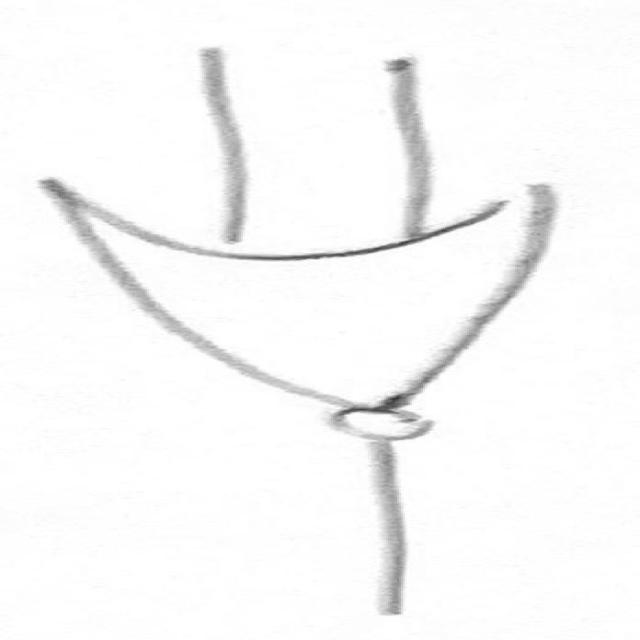NOR: (9, 163, 597, 458)
